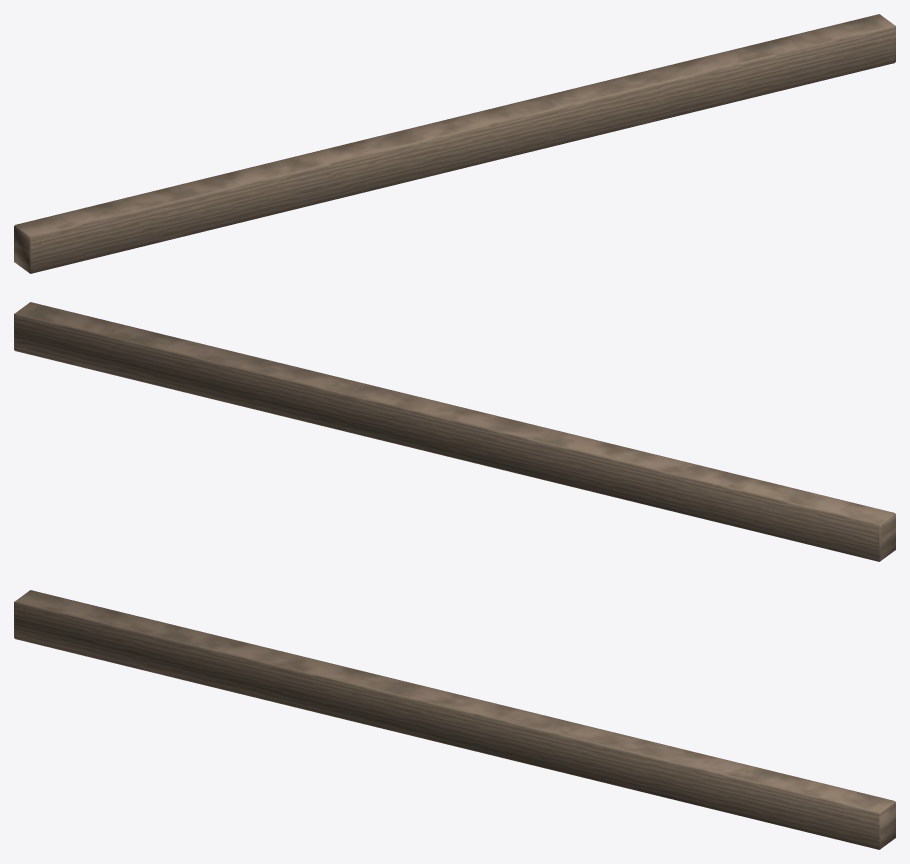
The model's file is roof-beam.glb.
The picture shows the model from 3 angles, top to bottom: view 1: azimuth 30°, elevation 25°; view 2: azimuth 150°, elevation 25°; view 3: azimuth 330°, elevation 25°; orthographic projection.
Parts seen in each view (by area): view 1: roof_beam; view 2: roof_beam; view 3: roof_beam.
Boxes of the visible parts, box(x1,y1,x2,y2) form: roof_beam: box(14, 14, 895, 273); roof_beam: box(14, 302, 895, 561); roof_beam: box(14, 590, 895, 849).
Bounding box in the file's own units: 12 × 0.5 × 0.4.
1 material, 1 textured.
